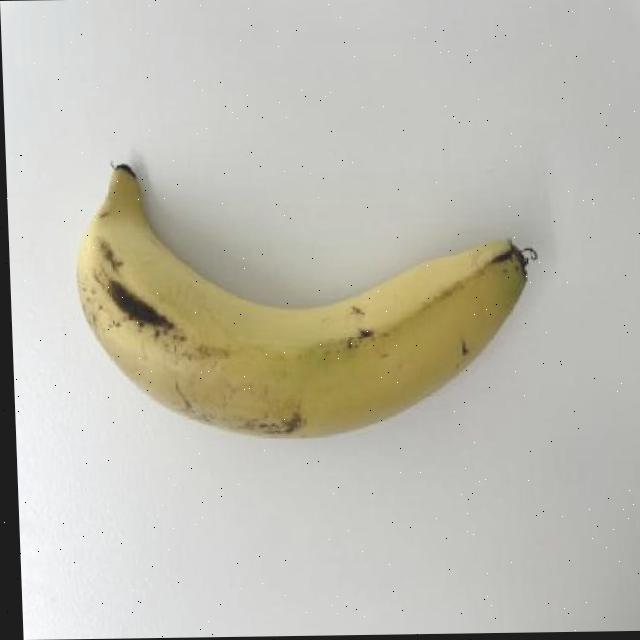banana: (63, 148, 548, 455)
